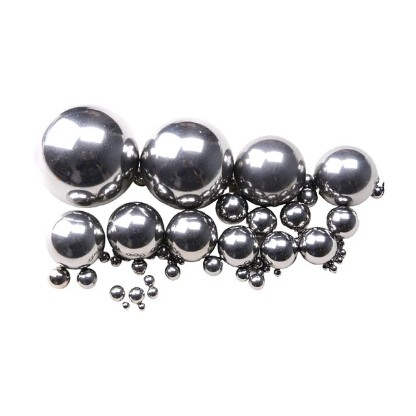ironball: (40, 105, 139, 207), (139, 119, 234, 209), (233, 134, 305, 206), (313, 144, 380, 206), (46, 209, 104, 269), (105, 200, 163, 260), (164, 208, 217, 261), (217, 224, 258, 267), (297, 226, 337, 264), (260, 230, 297, 269), (326, 205, 358, 238), (215, 192, 247, 224), (279, 200, 310, 230), (245, 206, 276, 235), (48, 265, 69, 288), (76, 267, 96, 288), (202, 254, 222, 275), (128, 286, 144, 303), (130, 258, 146, 274), (109, 284, 124, 300), (146, 285, 157, 298), (143, 274, 154, 286)
